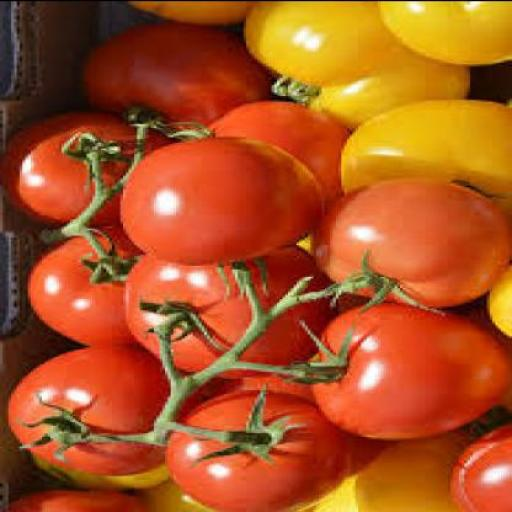biodegradable: (114, 108, 314, 268), (238, 2, 470, 128), (120, 246, 333, 378), (305, 306, 510, 441), (310, 182, 510, 309), (162, 392, 370, 510), (76, 22, 269, 148), (2, 348, 184, 477), (238, 3, 470, 91), (0, 111, 174, 227), (336, 100, 510, 212), (22, 229, 165, 352), (193, 103, 341, 205), (299, 433, 465, 511), (372, 2, 510, 67), (25, 432, 166, 490), (446, 410, 510, 511), (185, 371, 313, 406), (0, 487, 144, 511), (118, 2, 249, 28), (132, 482, 214, 511), (482, 256, 509, 342), (465, 56, 509, 108)
cardboard: (0, 2, 81, 115), (0, 216, 28, 351), (0, 327, 50, 372), (0, 452, 26, 492)
